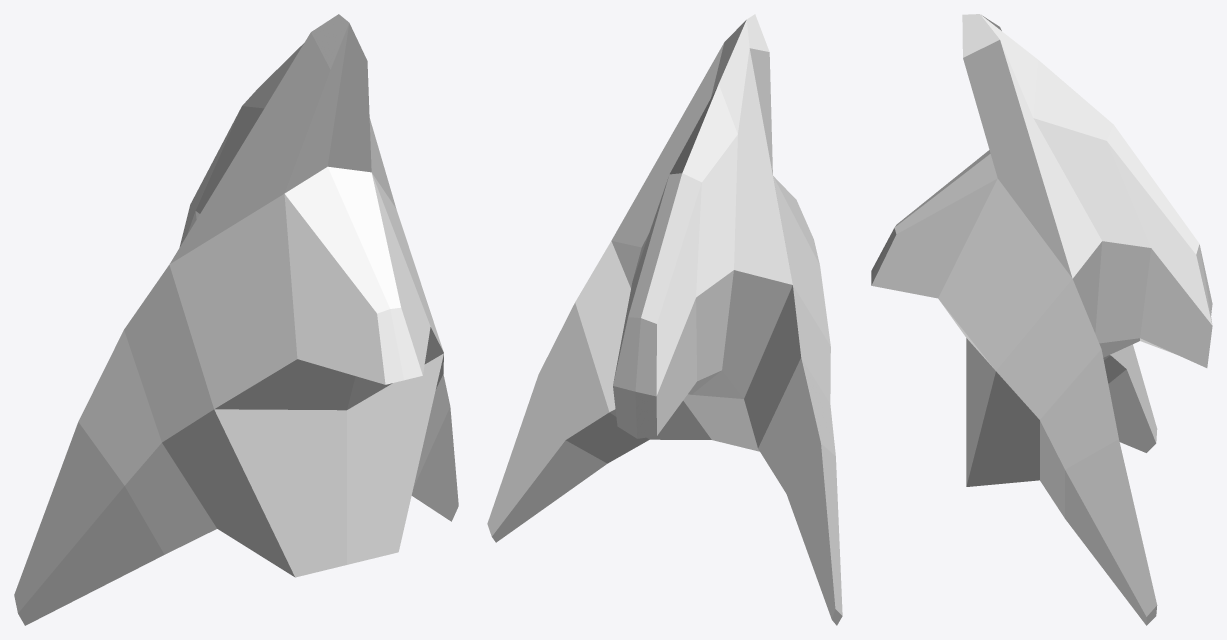
Rendered from head_14.fbx.
3 views of the same model, side by side, from view 1: azimuth 30°, elevation 25°; view 2: azimuth 150°, elevation 25°; view 3: azimuth 270°, elevation 25° (orthographic). The views are drawn at different scales.
Parts seen in each view (by area): view 1: Cube.137; view 2: Cube.137; view 3: Cube.137.
Part boxes in pixels (left/top/right/bottom): Cube.137: left=14, top=14, right=458, bottom=625; Cube.137: left=487, top=14, right=842, bottom=625; Cube.137: left=871, top=14, right=1212, bottom=625.
Bounding box in the file's own units: 31.65 × 43.45 × 25.56.
